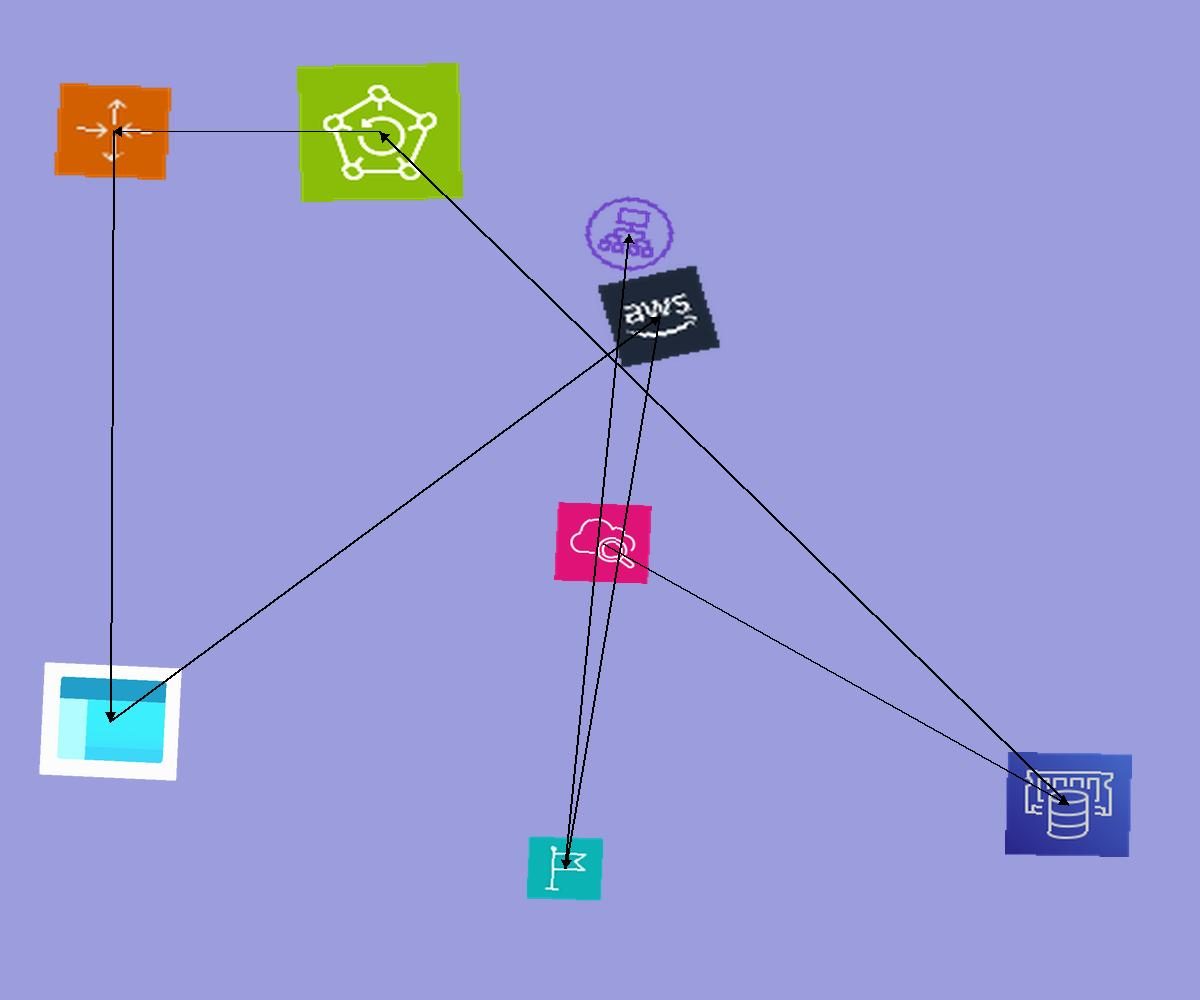AWS-Backup: (297, 63, 463, 202)
AWS-Cloud-logo: (596, 264, 722, 369)
AWS-CloudWatch: (554, 502, 652, 584)
AWS-ElastiCache: (1005, 752, 1132, 857)
AWS-Region: (526, 836, 604, 901)
AWS-Res_Elastic-Load-Balancing_Application-Load-Balancer: (572, 186, 687, 282)
AWS-Scaling-group: (52, 81, 174, 182)
Azure_management-portal: (39, 662, 182, 781)
